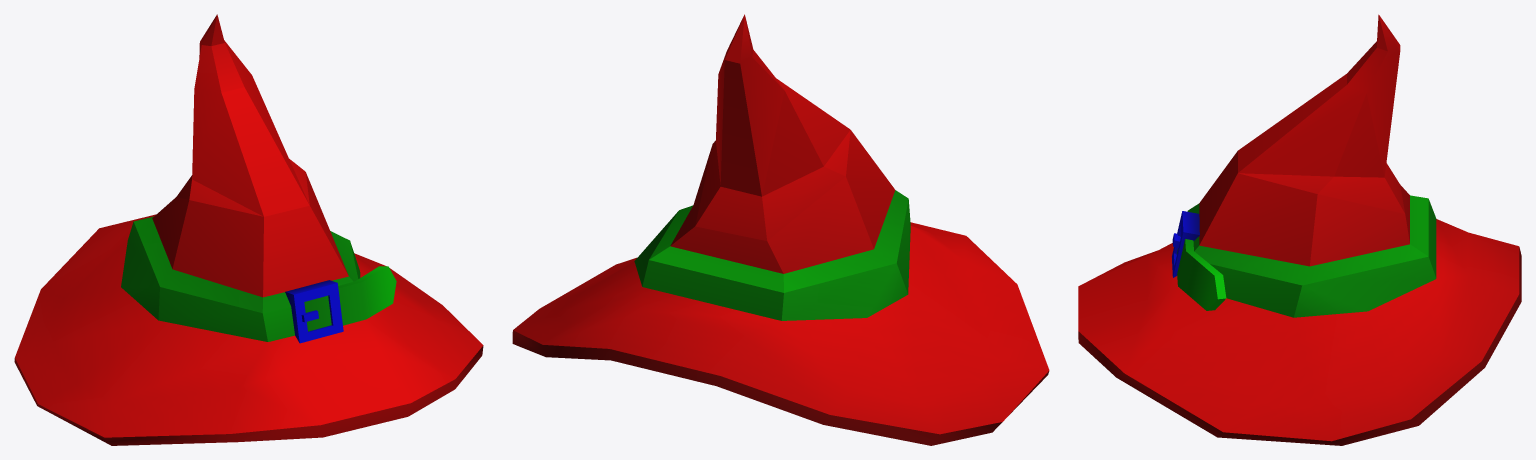
File: WitchHat.fbx
3 views of the same model, side by side, from view 1: azimuth 30°, elevation 25°; view 2: azimuth 150°, elevation 25°; view 3: azimuth 270°, elevation 25° (orthographic). The views are drawn at different scales.
Visible parts, largest first — view 1: WitchHat; view 2: WitchHat; view 3: WitchHat.
Boxes of the visible parts, x1,y1,x2,y2 form: WitchHat: (14,14,483,445); WitchHat: (512,14,1049,445); WitchHat: (1078,14,1521,445).
Bounding box in the file's own units: 58.51 × 45.64 × 54.89.
